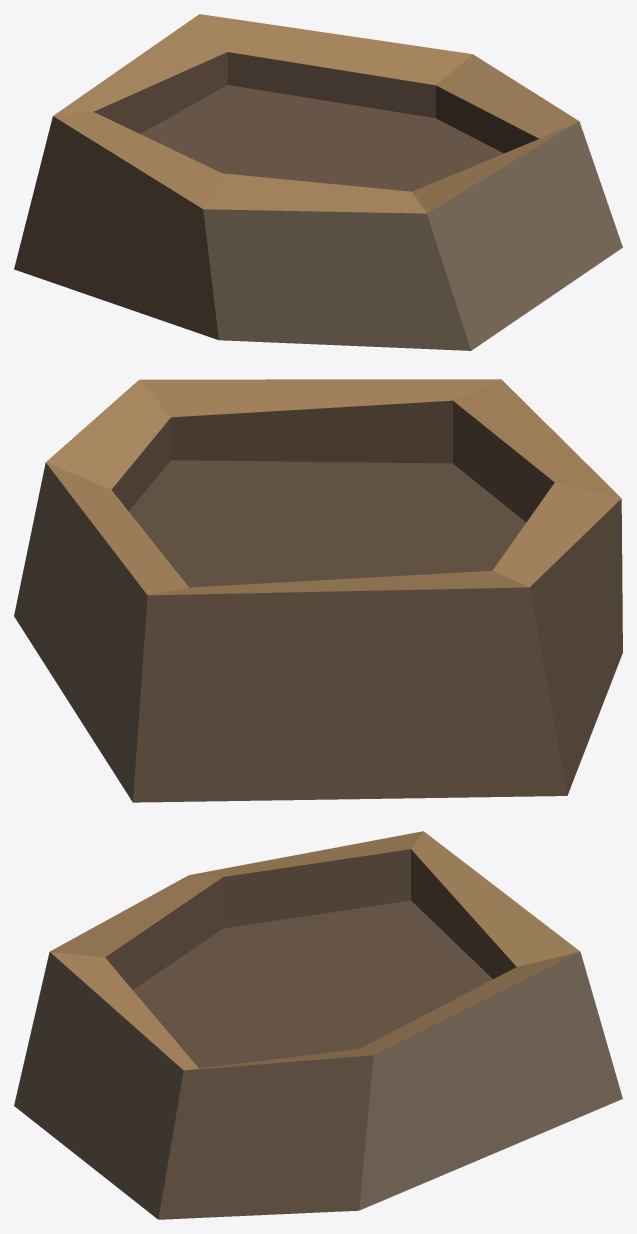
File: otherFatStump.fbx
The picture shows the model from 3 angles, top to bottom: view 1: azimuth 30°, elevation 25°; view 2: azimuth 150°, elevation 25°; view 3: azimuth 270°, elevation 25°; orthographic projection. The views are drawn at different scales.
Visible parts, largest first — view 1: otherFatterStump; view 2: otherFatterStump; view 3: otherFatterStump.
Part boxes in pixels (box(x1,y1,x2,y2)): otherFatterStump: box(14, 14, 622, 350); otherFatterStump: box(14, 379, 622, 802); otherFatterStump: box(14, 831, 622, 1219).
Bounding box in the file's own units: 54.11 × 16.05 × 56.08.
